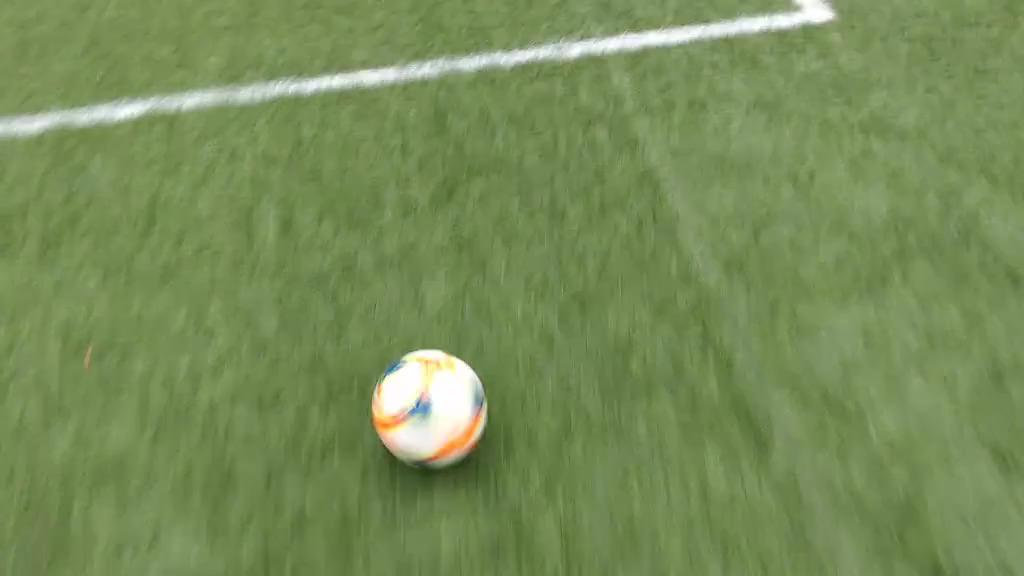ball: (373, 350, 486, 469)
